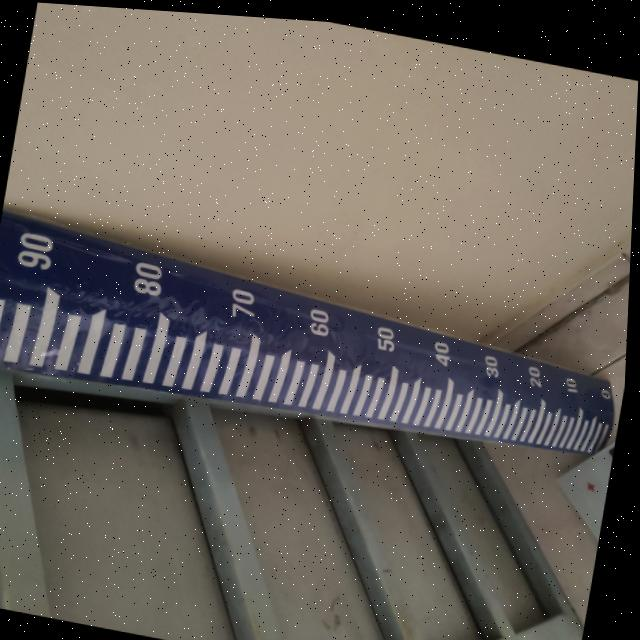water-meter: (0, 208, 631, 494)
